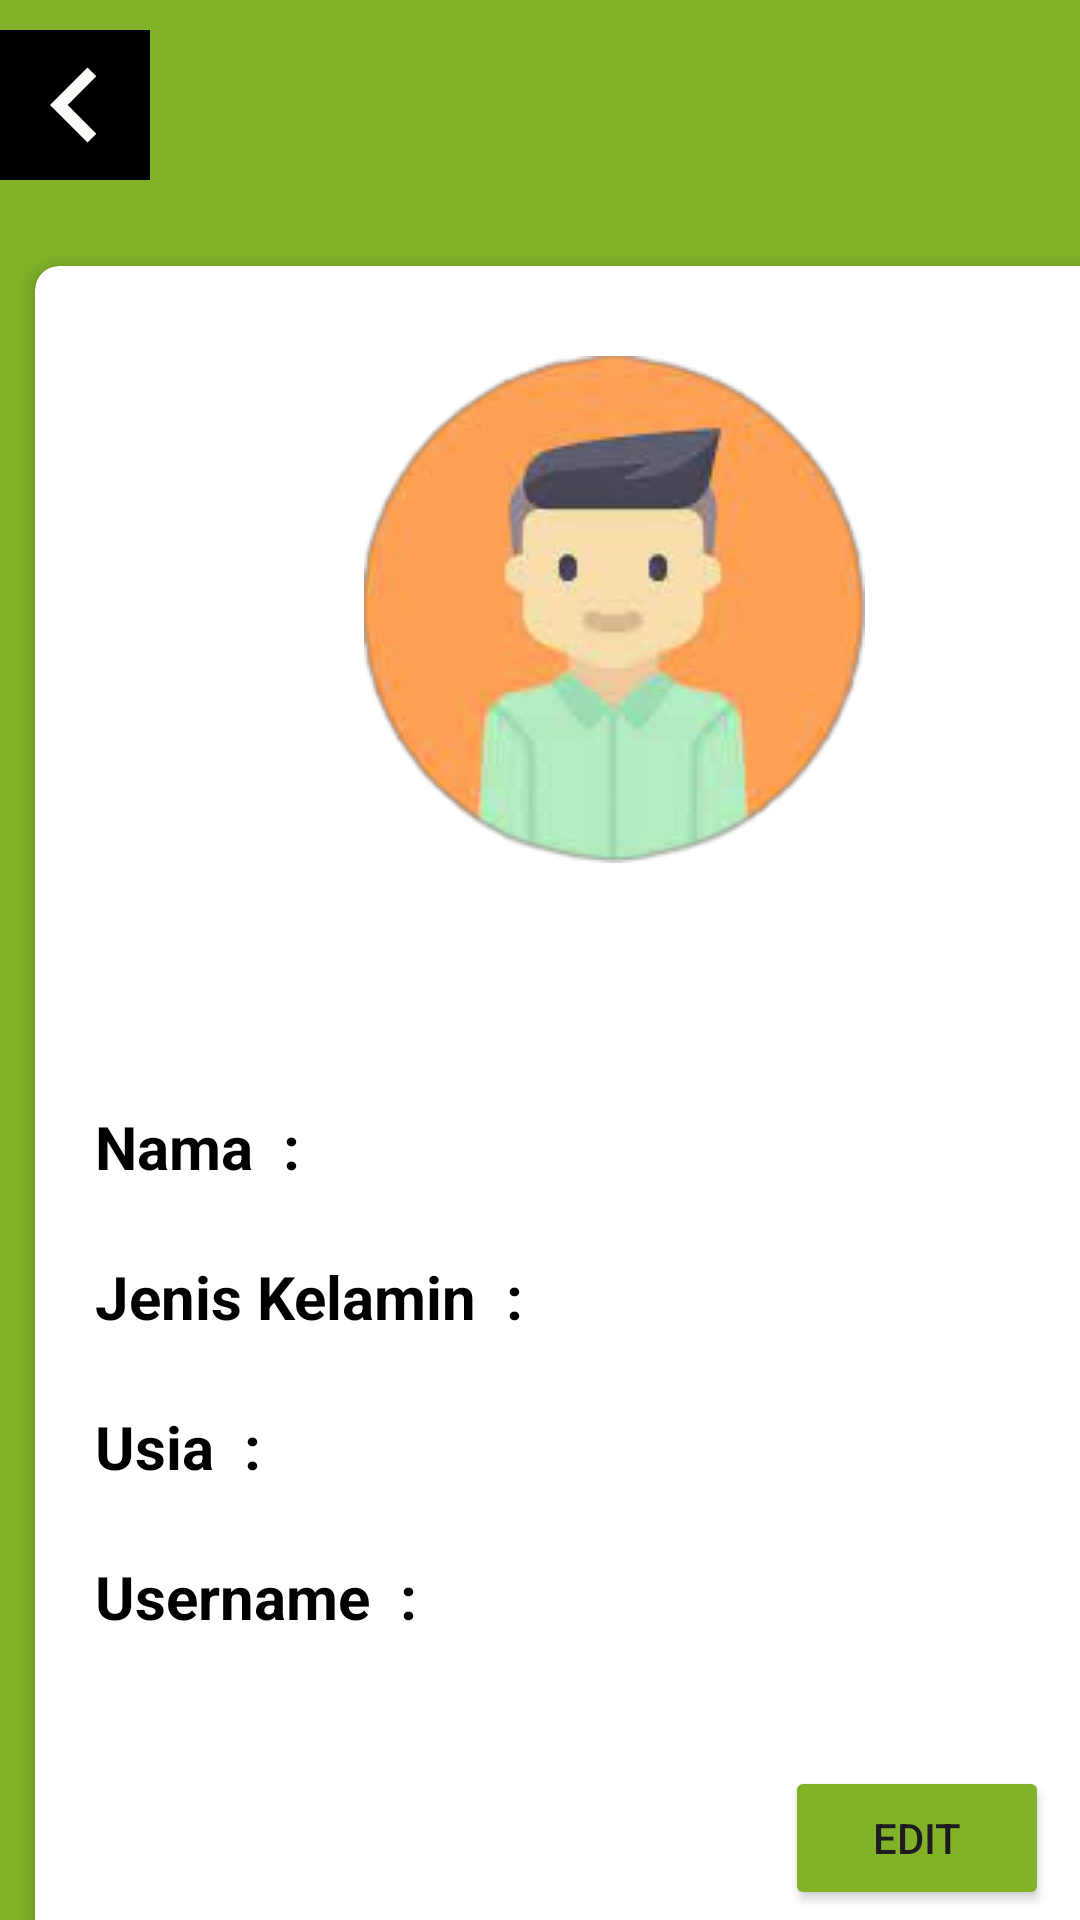

Named icons in this screenshot (1080 x 1920) and their centers, point (x, y):
back: point (75, 105)
